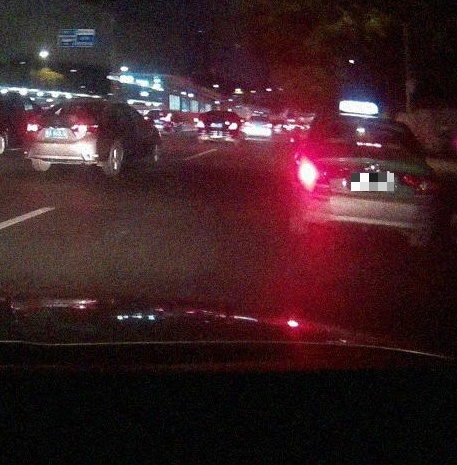L_light: (297, 158, 346, 182), (27, 123, 43, 132)
R_light: (398, 170, 436, 193), (71, 123, 100, 133)
T_light: (356, 141, 381, 148), (67, 104, 82, 107)
night-left: (292, 116, 437, 248)
night-no: (26, 102, 110, 175)
plate_1: (351, 173, 394, 191)
